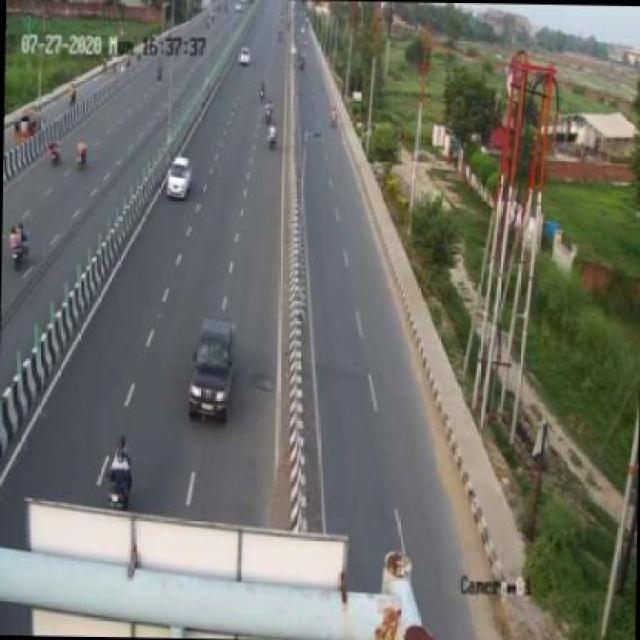car: (187, 318, 236, 420), (164, 155, 190, 203)
